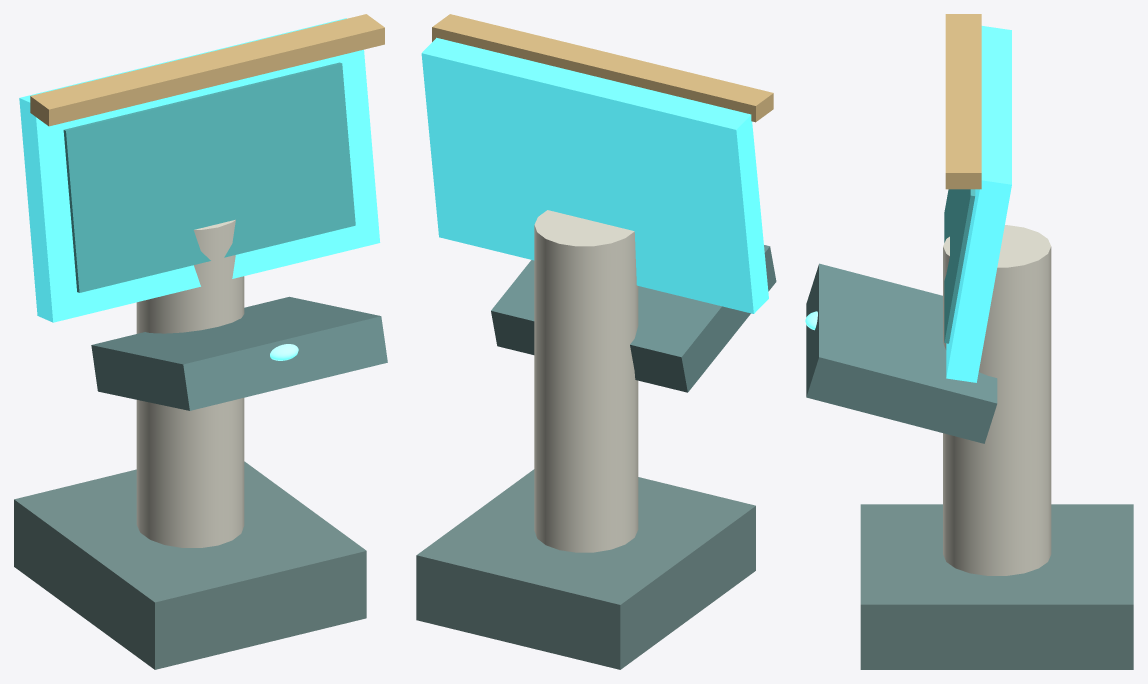
Rendered from holo-inventory-kiosk.glb.
3 renders of one model, left to right at view 1: azimuth 30°, elevation 25°; view 2: azimuth 150°, elevation 25°; view 3: azimuth 270°, elevation 25°, orthographic. The views are drawn at different scales.
Visible parts, largest first — view 1: kiosk.display.glow, kiosk.foot, kiosk.display, kiosk.stem, kiosk.console, kiosk.display.frame; view 2: kiosk.display, kiosk.foot, kiosk.stem, kiosk.console, kiosk.display.frame; view 3: kiosk.foot, kiosk.stem, kiosk.console, kiosk.display, kiosk.display.frame, kiosk.display.glow.
Part boxes in pixels (bbox=[...]): kiosk.display.glow: bbox=[63, 62, 355, 292]; kiosk.foot: bbox=[14, 461, 366, 669]; kiosk.display: bbox=[19, 18, 380, 322]; kiosk.stem: bbox=[136, 219, 244, 547]; kiosk.console: bbox=[91, 296, 387, 410]; kiosk.display.frame: bbox=[30, 14, 384, 126]; kiosk.display: bbox=[421, 37, 768, 313]; kiosk.foot: bbox=[416, 469, 755, 669]; kiosk.stem: bbox=[534, 210, 638, 552]; kiosk.console: bbox=[491, 245, 776, 392]; kiosk.display.frame: bbox=[432, 14, 773, 122]; kiosk.foot: bbox=[860, 504, 1133, 669]; kiosk.stem: bbox=[943, 225, 1051, 575]; kiosk.console: bbox=[806, 263, 997, 443]; kiosk.display: bbox=[946, 26, 1011, 382]; kiosk.display.frame: bbox=[945, 14, 981, 189]; kiosk.display.glow: bbox=[944, 189, 975, 343].
Size of the model in its own units: 1.46 by 2.26 by 1.27.
